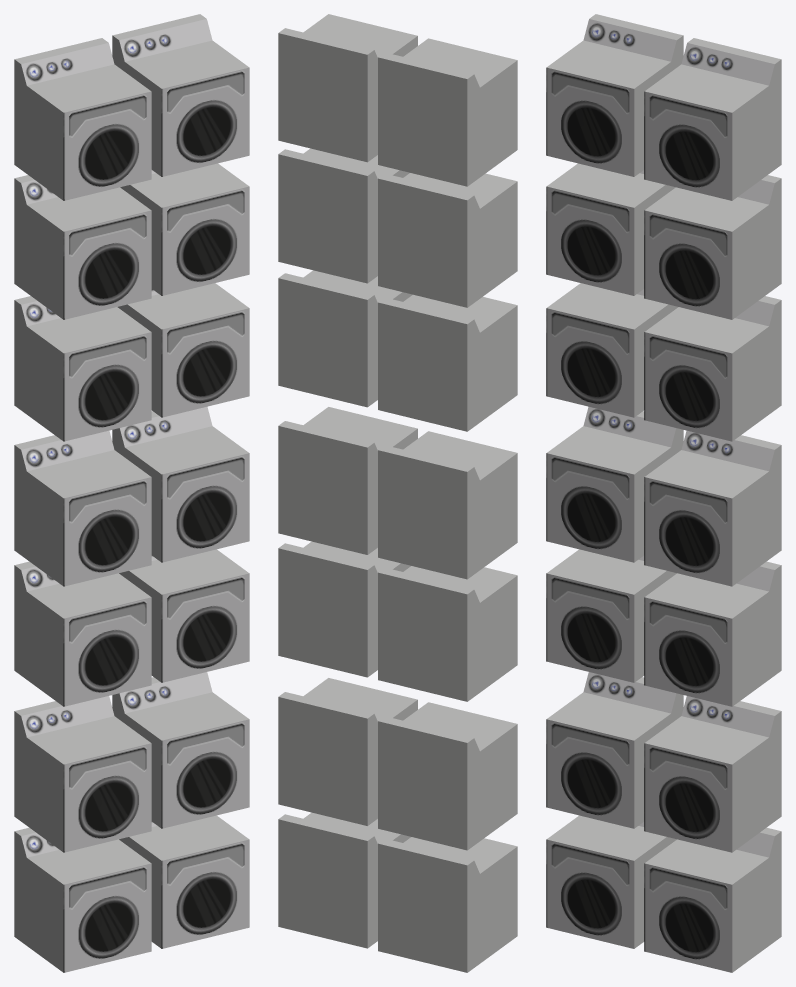
File: Washers.fbx
The picture shows the model from 3 angles, left to right: view 1: azimuth 30°, elevation 25°; view 2: azimuth 150°, elevation 25°; view 3: azimuth 330°, elevation 25°; orthographic projection.
Parts seen in each view (by area): view 1: Washers; view 2: Washers; view 3: Washers.
Part boxes in pixels (x1,y1,x2,y2): Washers: (14, 14, 249, 972); Washers: (278, 14, 517, 972); Washers: (546, 14, 781, 972).
Size of the model in its own units: 1.8 by 8.13 by 0.828.
